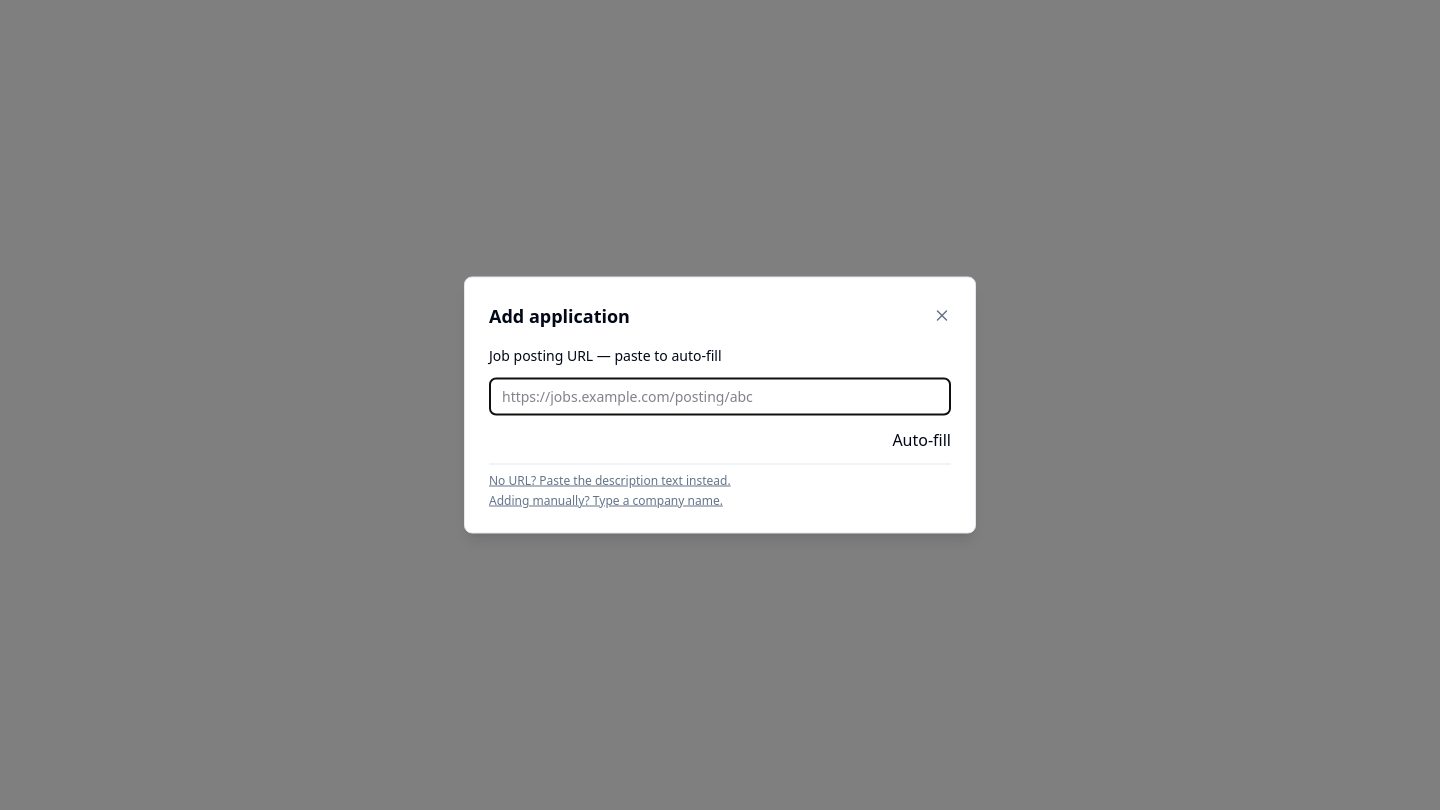
Test: AddApplicationDialog — URL happy path › URL → extract → review auto-creates a new company when no match
The width and height of the screenshot is (1440, 810).
Type "https://jobs.example.com/x" into the field labelled "Job posting URL — paste to auto-fill" at (720, 396), box [489, 378, 951, 416]
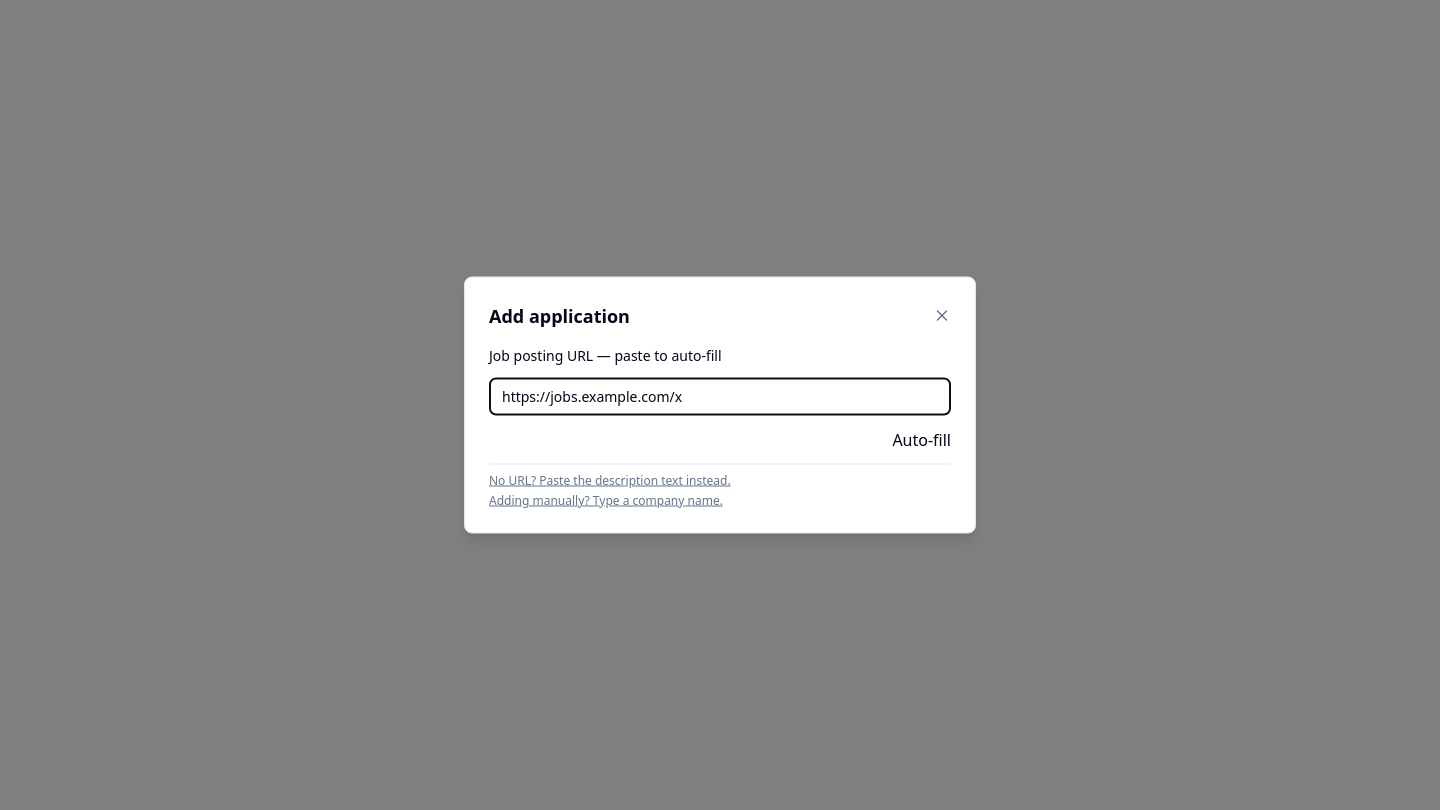
Click the button "Auto-fill" at (922, 440), box [892, 428, 951, 452]
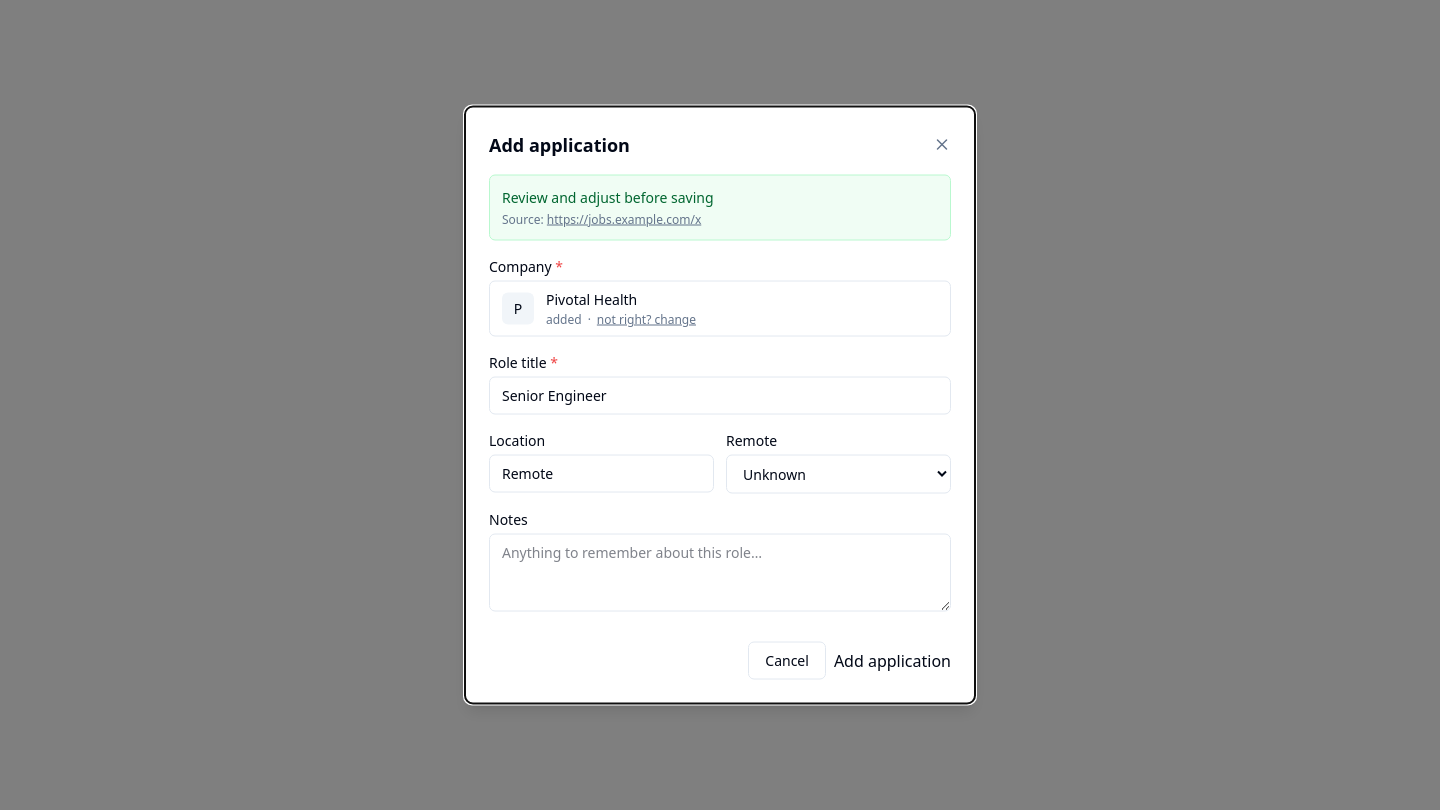
Now the text "Pivotal Health" is shown, box [546, 290, 637, 308]
Now the text "added" is shown, box [546, 312, 582, 328]
